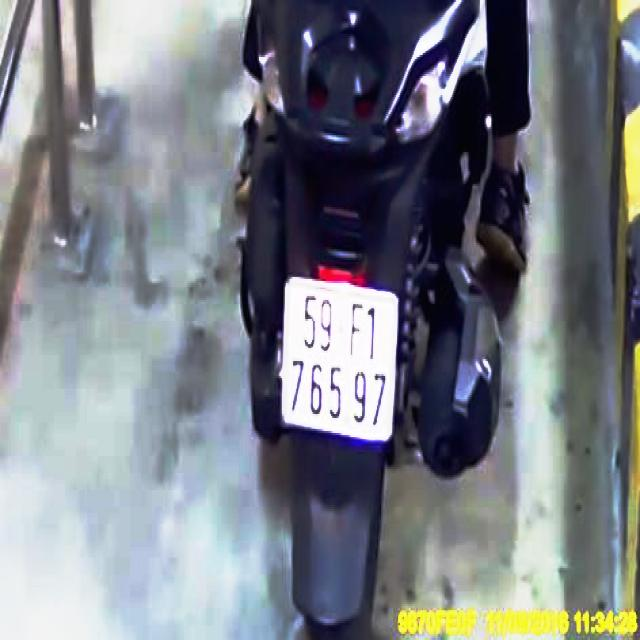license_plate: (285, 281, 396, 441)
